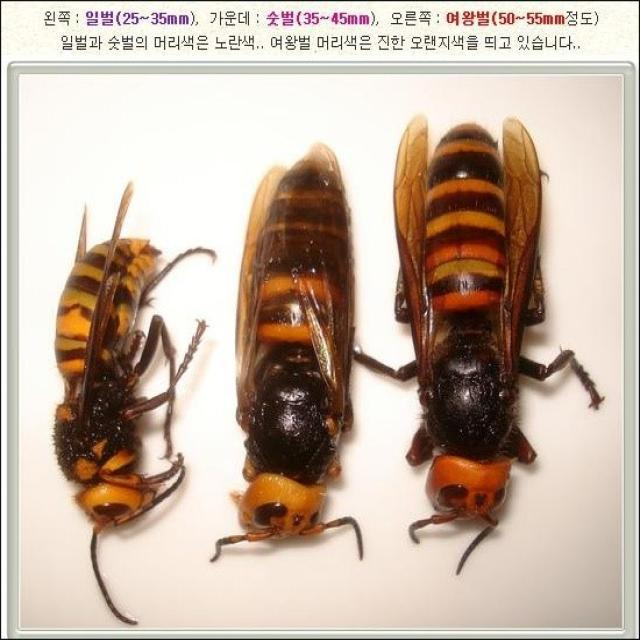Wasp: (392, 90, 598, 568), (39, 178, 193, 624), (219, 132, 364, 561)
